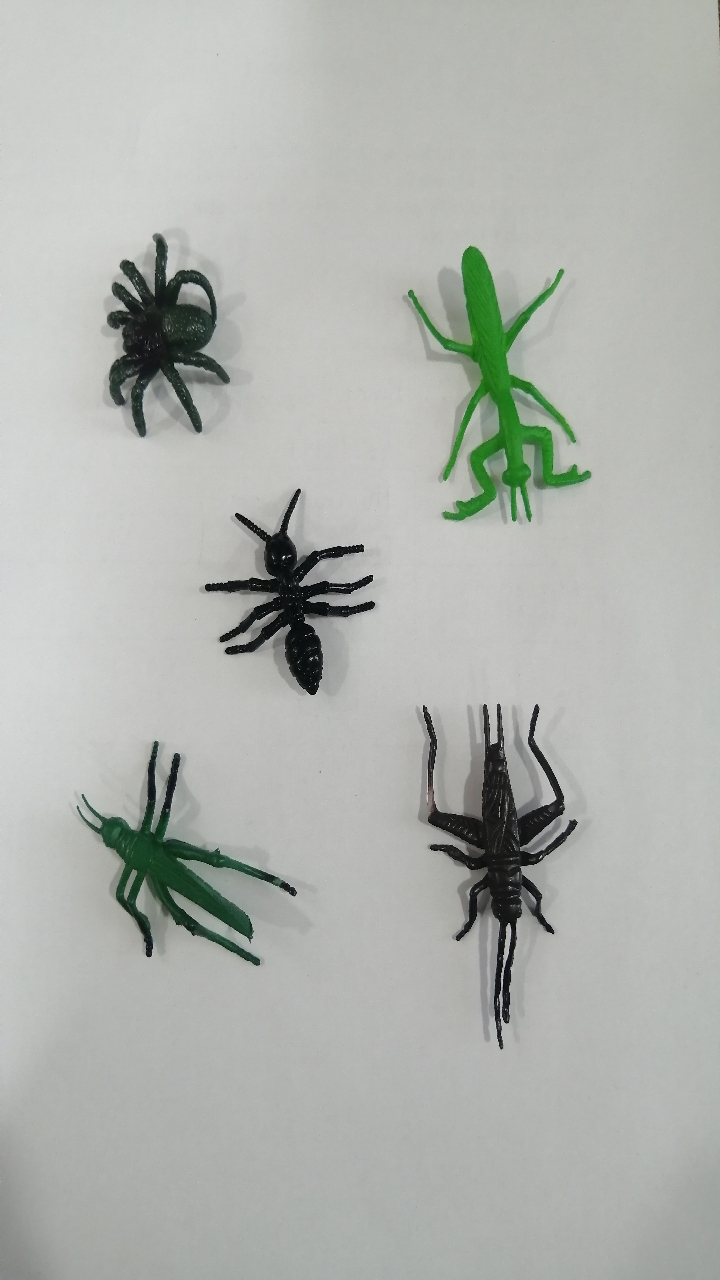intruso: (388, 682, 604, 1068), (384, 223, 617, 569), (37, 726, 312, 969), (54, 192, 244, 459), (198, 475, 392, 717)
